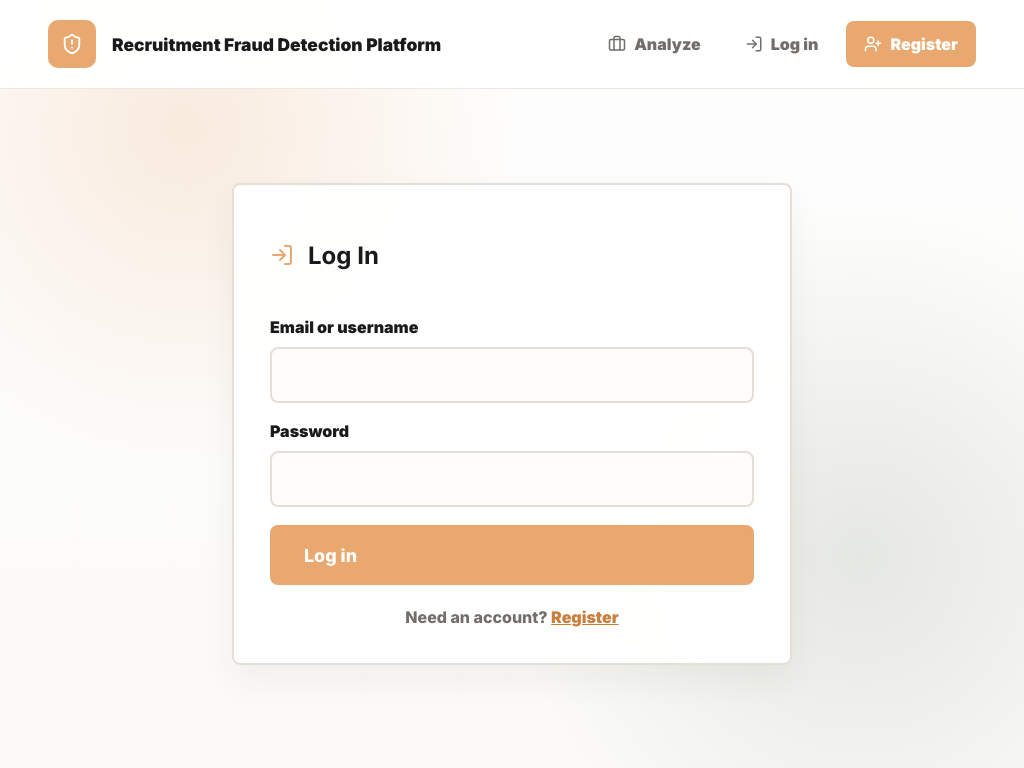
Scenario: shows a backend authentication error without storing credentials
Type "unit-user" into the field labelled "Email or username".
click(512, 375); type("unit-user")  # box [270, 347, 754, 403]
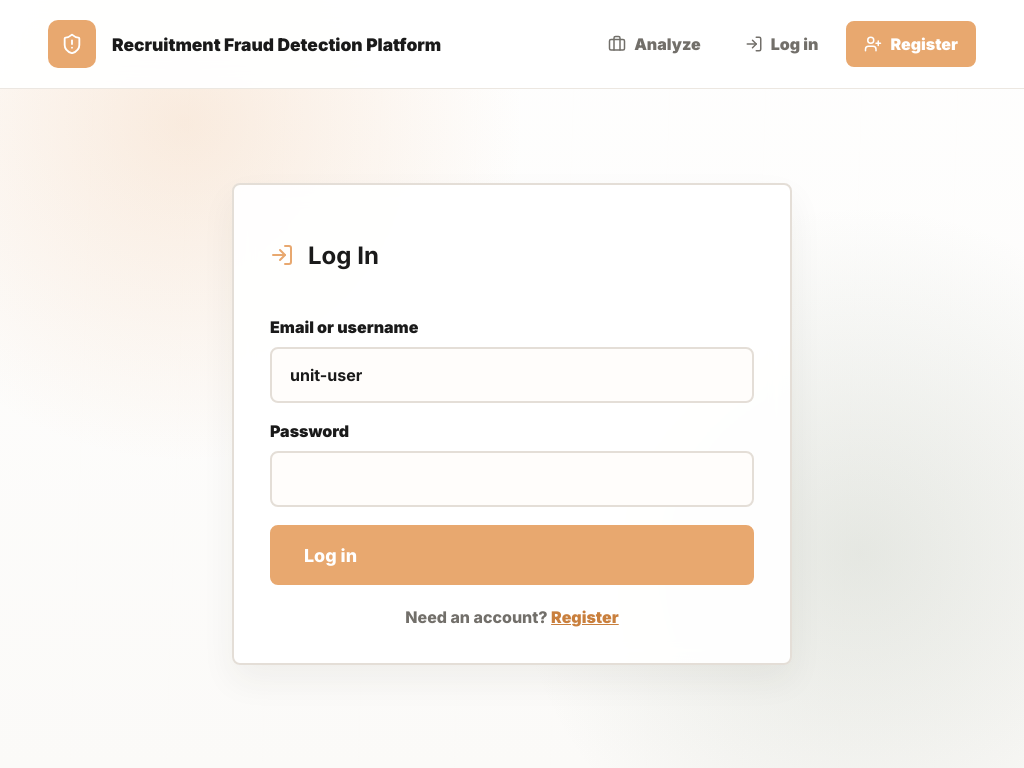
Type "wrong" into the password field labelled "Password".
click(512, 479); type("wrong")  # box [270, 451, 754, 507]
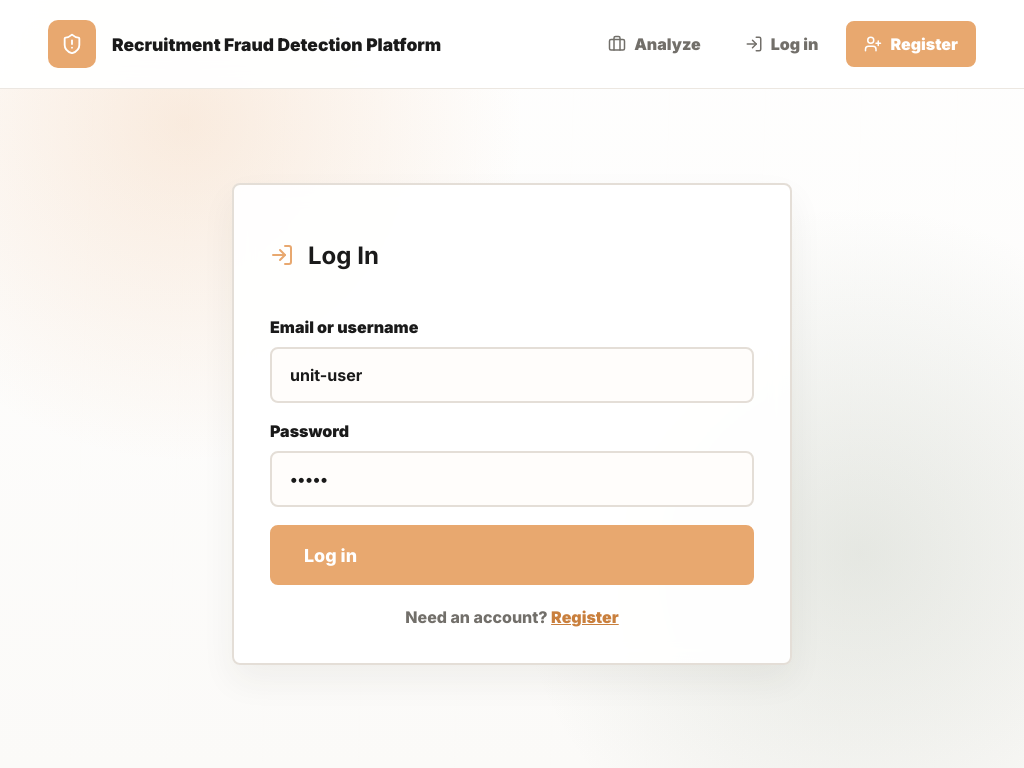
Click the button "Log in".
click(331, 555)  # box [270, 525, 754, 585]
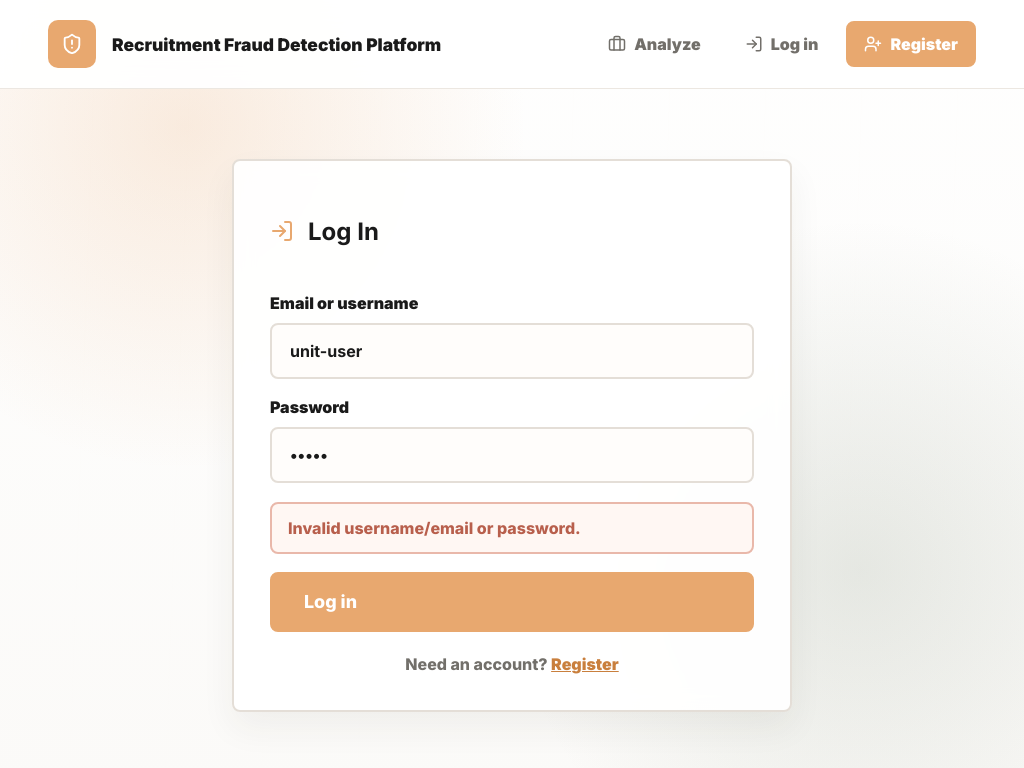
Expected: the text "Invalid username/email or password." is shown, [270, 502, 754, 554]
